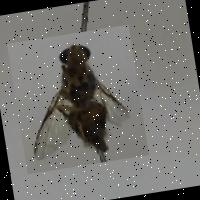Oriental-fruit-fly: (7, 24, 149, 174)
